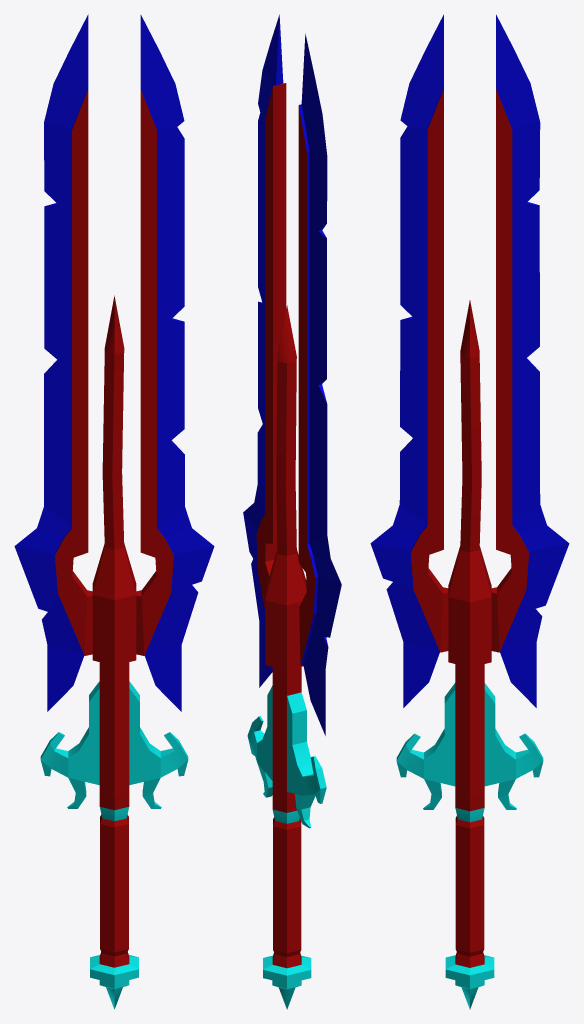
The model's file is Greatsword_Legendary_CrystalDouble.fbx.
3 renders of one model, left to right at view 1: azimuth 90°, elevation 25°; view 2: azimuth 210°, elevation 25°; view 3: azimuth 270°, elevation 25°, orthographic.
Parts seen in each view (by area): view 1: SM_Wep_Crystal_DoubleSword_01; view 2: SM_Wep_Crystal_DoubleSword_01; view 3: SM_Wep_Crystal_DoubleSword_01.
Boxes of the visible parts, left/top/right/bottom form: SM_Wep_Crystal_DoubleSword_01: left=14, top=14, right=214, bottom=1009; SM_Wep_Crystal_DoubleSword_01: left=243, top=14, right=341, bottom=1009; SM_Wep_Crystal_DoubleSword_01: left=370, top=14, right=569, bottom=1009.
Bounding box in the file's own units: 0.0884 × 1.72 × 0.3126.
